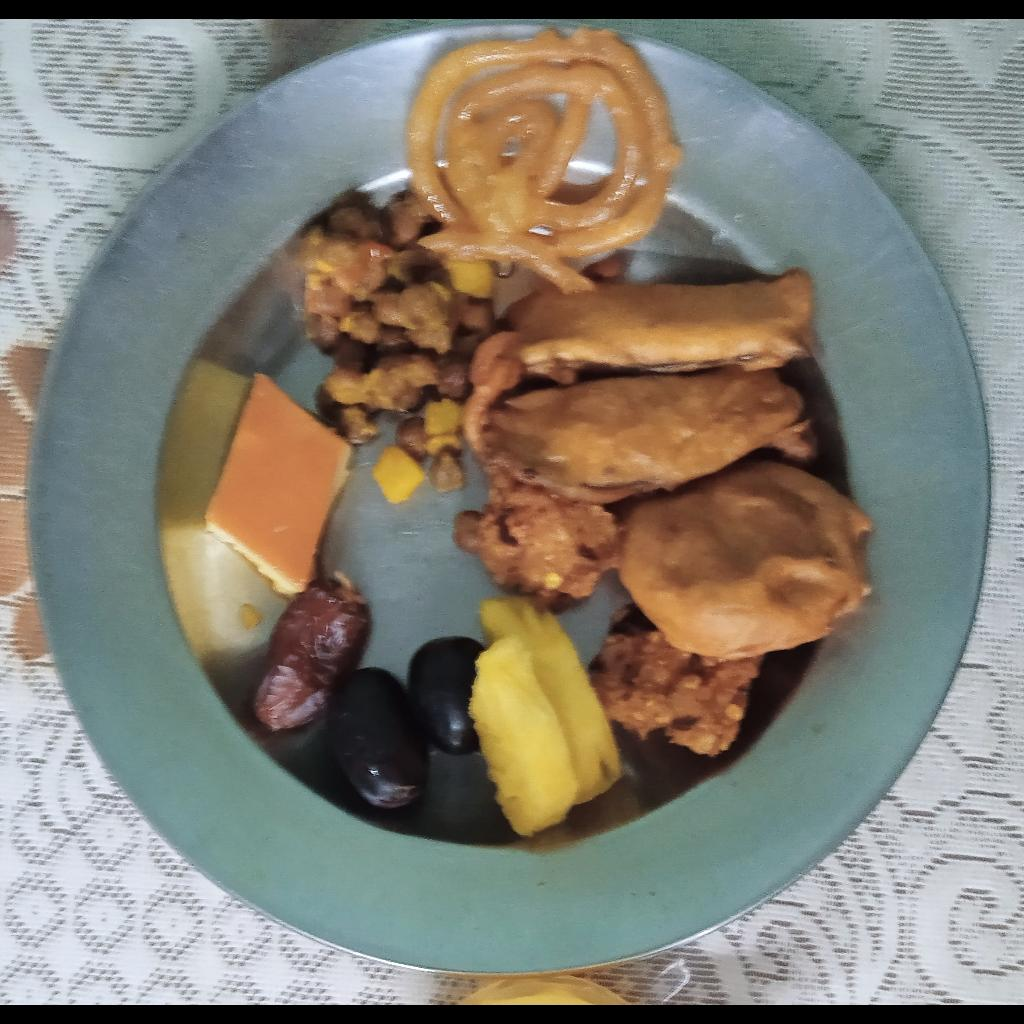beguni: (467, 269, 817, 503), (619, 459, 874, 656)
chola: (298, 189, 497, 505)
dates: (327, 636, 487, 809), (253, 573, 372, 731)
jilapi: (408, 29, 680, 290)
pineapple: (469, 600, 622, 837)
piyaju: (588, 602, 765, 758), (450, 465, 621, 604)
sweets: (205, 375, 352, 602)
